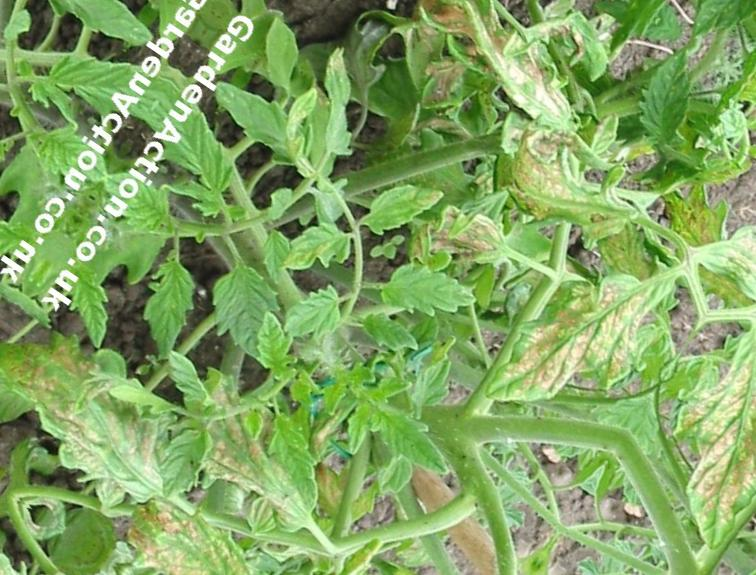Tomato leaf mosaic virus: (188, 256, 310, 373), (233, 398, 352, 512), (283, 49, 398, 166), (616, 43, 725, 157), (112, 247, 217, 362), (348, 394, 466, 490), (204, 75, 316, 171), (373, 248, 479, 348), (354, 163, 445, 256), (146, 412, 229, 506), (48, 263, 136, 351), (270, 206, 355, 291), (274, 276, 349, 355)
